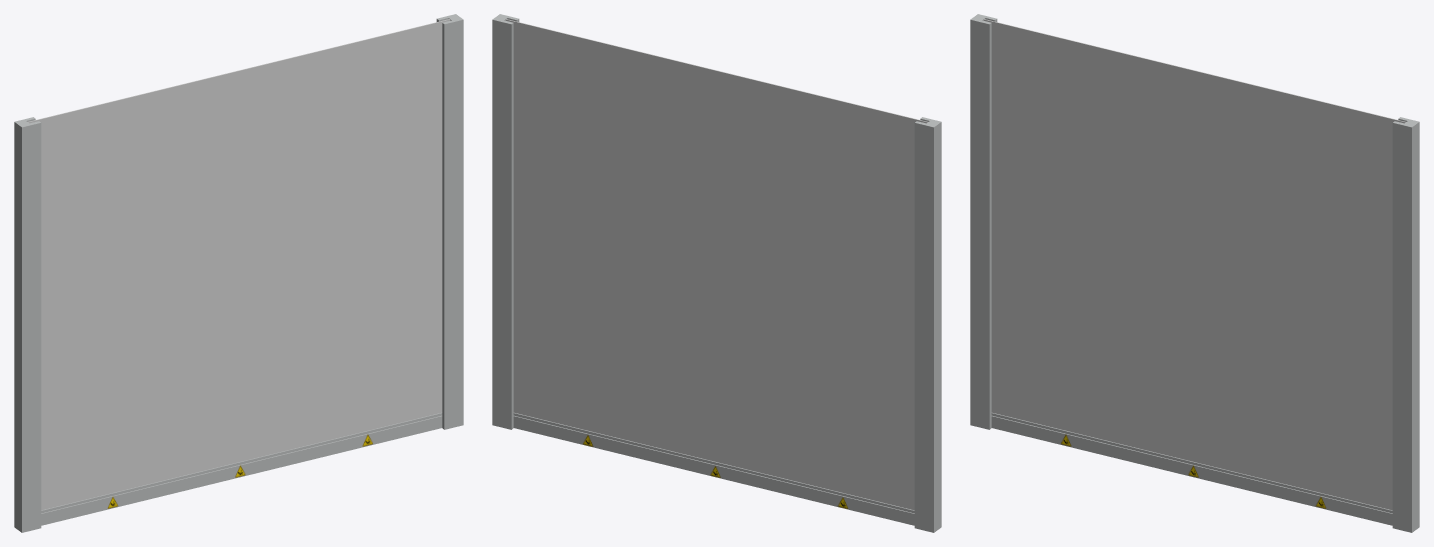
File: TXT Garden_Gate.fbx
3 views of the same model, side by side, from view 1: azimuth 30°, elevation 25°; view 2: azimuth 150°, elevation 25°; view 3: azimuth 330°, elevation 25° (orthographic).
Parts seen in each view (by area): view 1: Gate_Railing, Gate_Frame, Gate_RailingBar; view 2: Gate_Railing, Gate_Frame, Gate_RailingBar; view 3: Gate_Railing, Gate_Frame, Gate_RailingBar.
Boxes of the visible parts, box(x1,y1,x2,y2) form: Gate_Railing: box(28, 19, 450, 510); Gate_Frame: box(14, 14, 463, 532); Gate_RailingBar: box(41, 412, 442, 525); Gate_Railing: box(505, 19, 927, 510); Gate_Frame: box(492, 14, 941, 532); Gate_RailingBar: box(513, 412, 914, 525); Gate_Railing: box(983, 19, 1405, 510); Gate_Frame: box(970, 14, 1419, 532); Gate_RailingBar: box(991, 412, 1392, 525).
Bounding box in the file's own units: 2.3 × 0.07 × 2.02.
3 materials, 2 textured.
